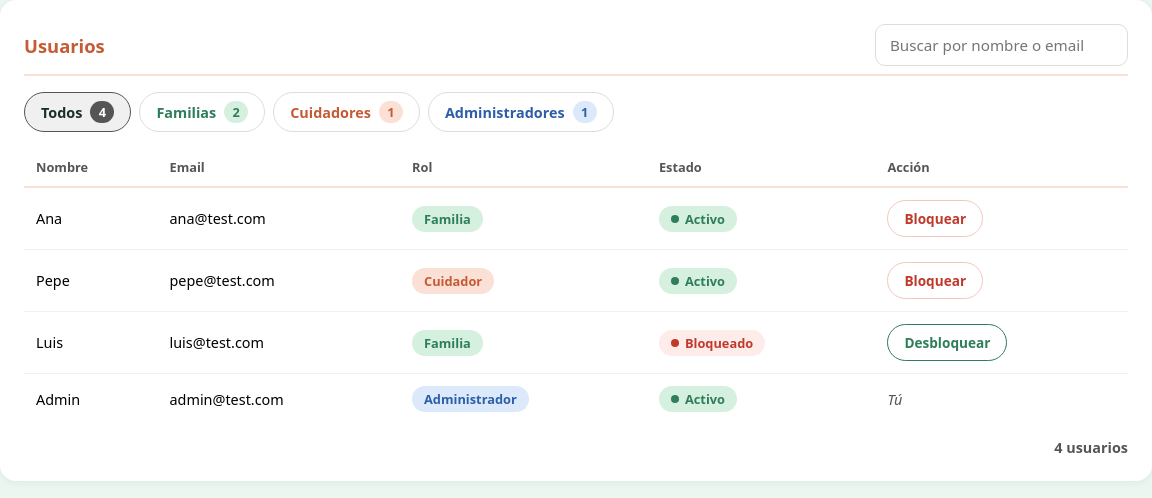
Test: AdminUsuarios › el botón Familias solo enseña a las familias
The image size is (1152, 498).
Click the button with class "admin-usuarios__grupo" showing "Familias 2" at (202, 112), box [139,92,265,132]
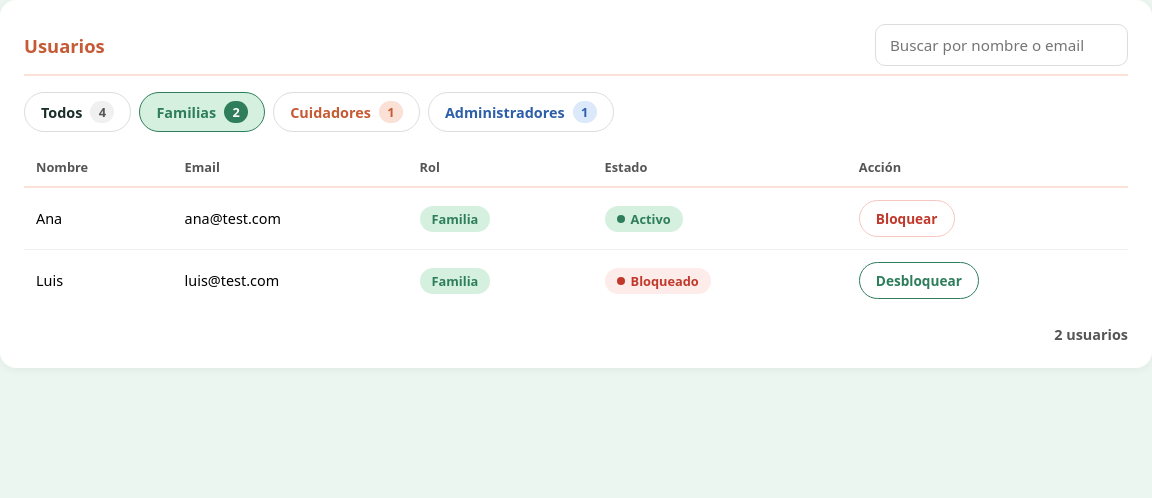
Expected: the text "Ana" is shown, [24,187,173,250]
Expected: the text "Pepe" is gone
Expected: the text "2 usuarios" is shown, [1054,325,1128,344]
